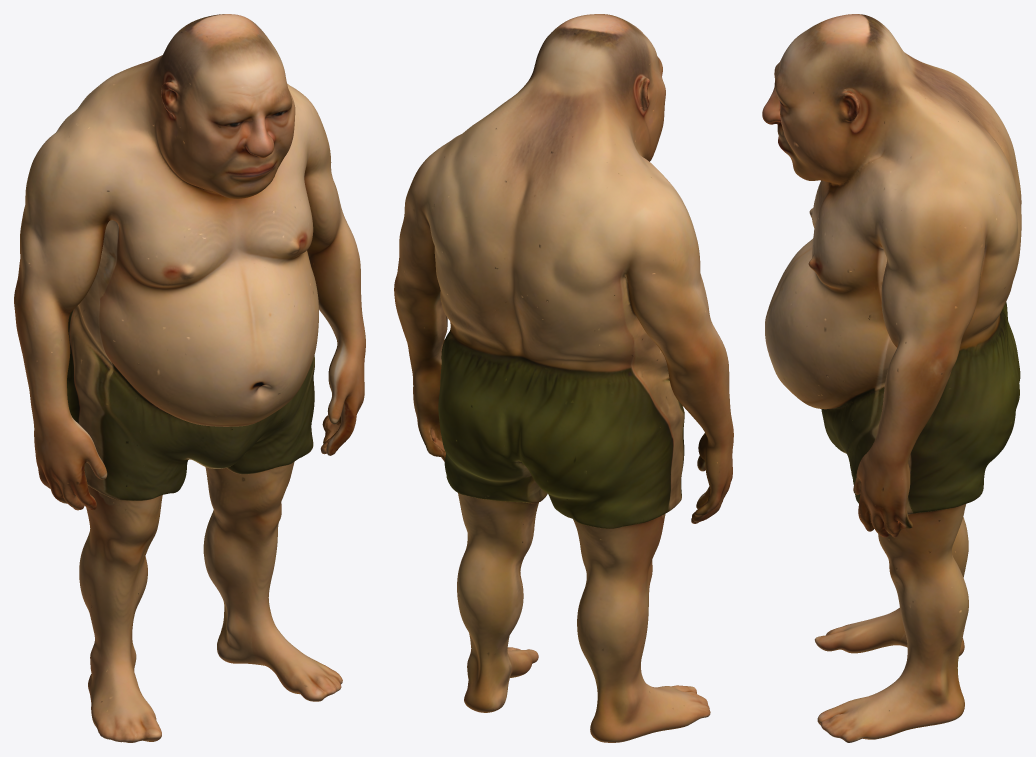
Rendered from BabySweng.glb.
3 renders of one model, left to right at view 1: azimuth 30°, elevation 25°; view 2: azimuth 150°, elevation 25°; view 3: azimuth 270°, elevation 25°, orthographic. The views are drawn at different scales.
Bounding box in the file's own units: 0.9972 × 2 × 0.7057.
Materials: 1 (1 with a texture image).
